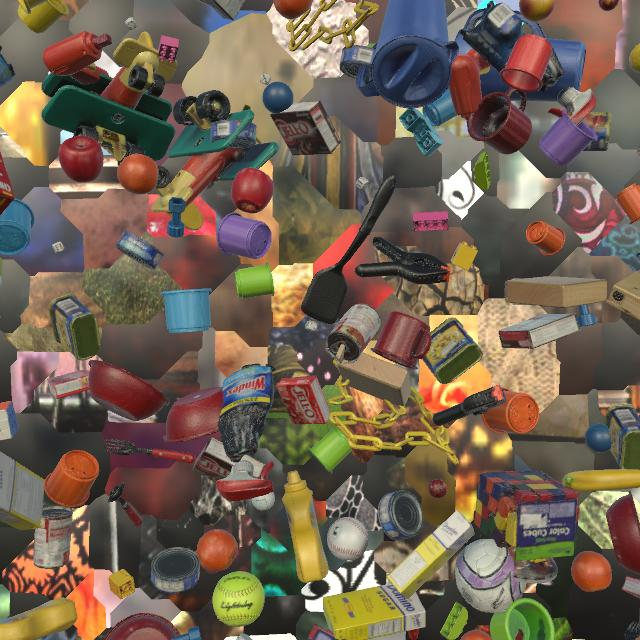ycb_003_cracker_box: (0, 151, 15, 215)
ycb_004_sugar_box: (386, 510, 475, 599), (323, 583, 426, 640), (0, 452, 45, 530)
ycb_005_tomato_soup_can: (325, 304, 381, 364), (33, 506, 73, 569)
ycb_006_mustard_bottle: (282, 471, 329, 583), (0, 598, 78, 640)
ycb_007_tuna_fish_can: (151, 547, 200, 594), (378, 490, 423, 541), (115, 231, 164, 270), (210, 120, 257, 149), (339, 45, 376, 81)
ycb_008_pudding_box: (270, 101, 341, 155), (193, 437, 266, 482), (498, 313, 581, 349), (205, 0, 246, 21)
ycb_009_gelatin_box: (277, 375, 331, 425), (47, 369, 89, 399), (622, 576, 640, 598)
ycb_010_potted_meat_can: (422, 317, 483, 384), (49, 294, 101, 361), (605, 404, 640, 470), (583, 112, 612, 151)
ycb_011_banana: (562, 469, 640, 491)
ycb_013_apple: (58, 136, 104, 183), (231, 168, 274, 214)
ycb_014_lemon: (629, 43, 640, 73)
ycb_015_peach: (519, 0, 555, 22)
ycb_017_orange: (197, 529, 238, 571), (571, 551, 612, 592), (117, 154, 158, 195), (273, 0, 312, 20), (460, 630, 493, 640)
